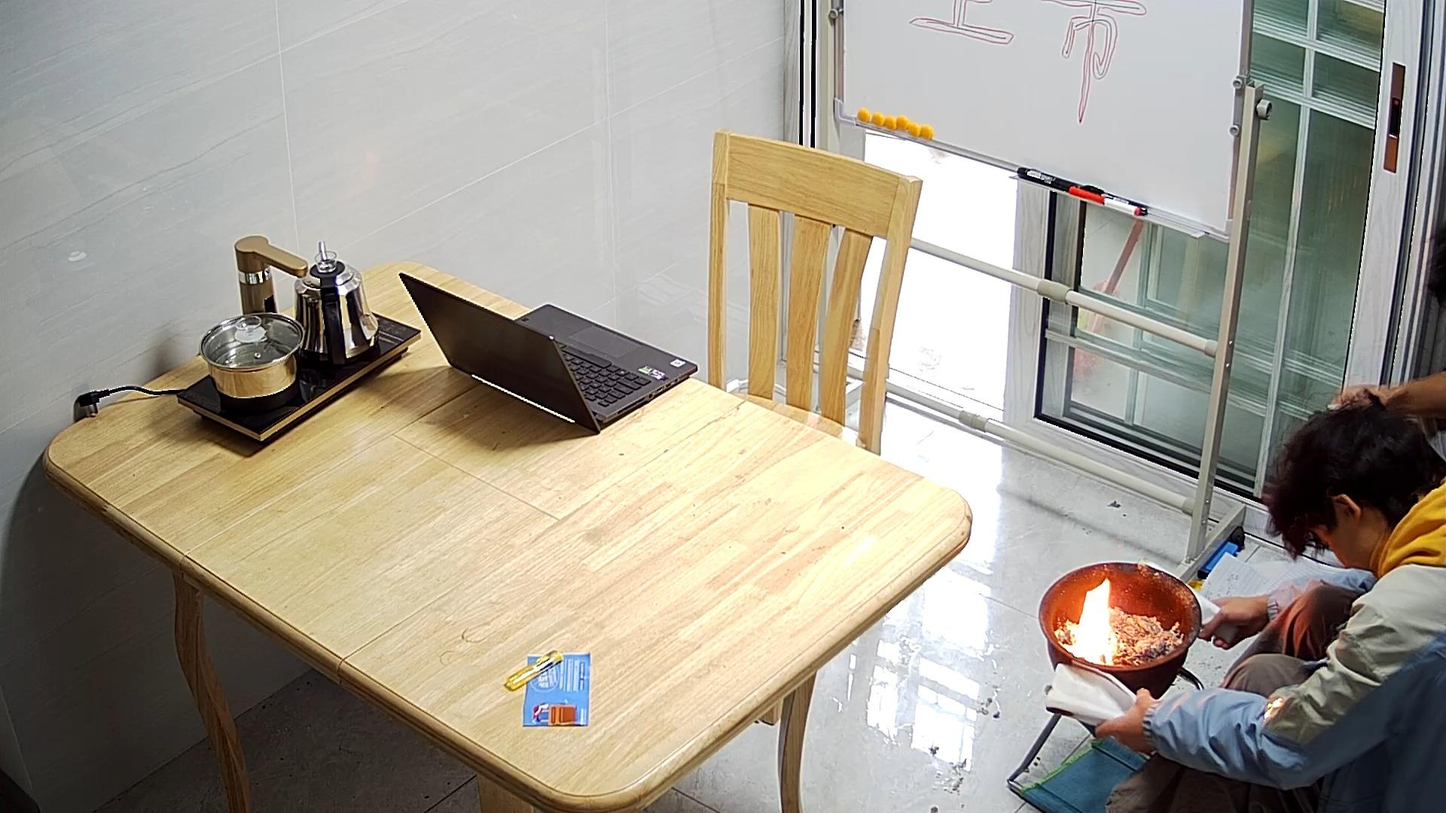fire: (1064, 581, 1112, 663)
